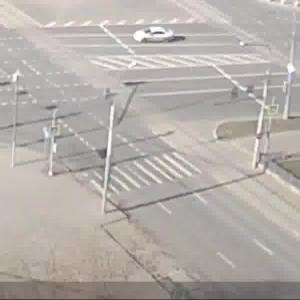car: (134, 27, 179, 46)
